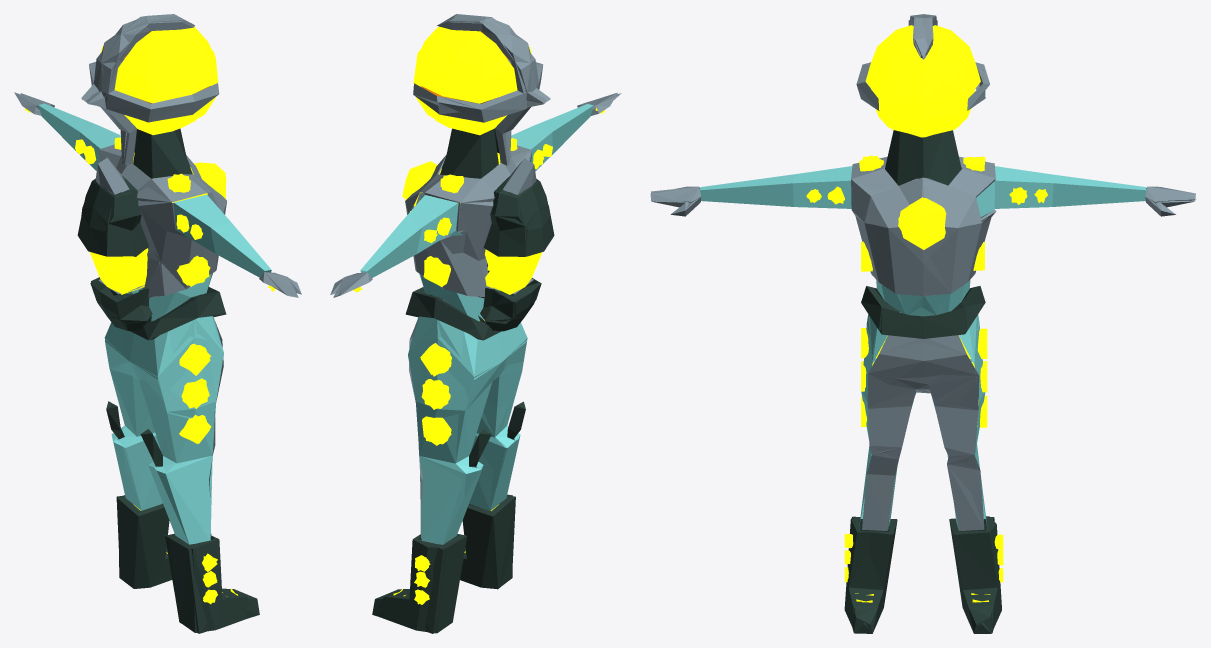
The model's file is uploads_files_3520242_(fbx)+Astronaut.fbx.
The picture shows the model from 3 angles, left to right: view 1: azimuth 30°, elevation 25°; view 2: azimuth 150°, elevation 25°; view 3: azimuth 270°, elevation 25°; orthographic projection.
Parts seen in each view (by area): view 1: Astronaut.001; view 2: Astronaut.001; view 3: Astronaut.001.
Boxes of the visible parts, <box> form: Astronaut.001: <box>14,14,301,633</box>; Astronaut.001: <box>330,14,621,633</box>; Astronaut.001: <box>650,14,1195,633</box>.
Bounding box in the file's own units: 32.85 × 130 × 111.
